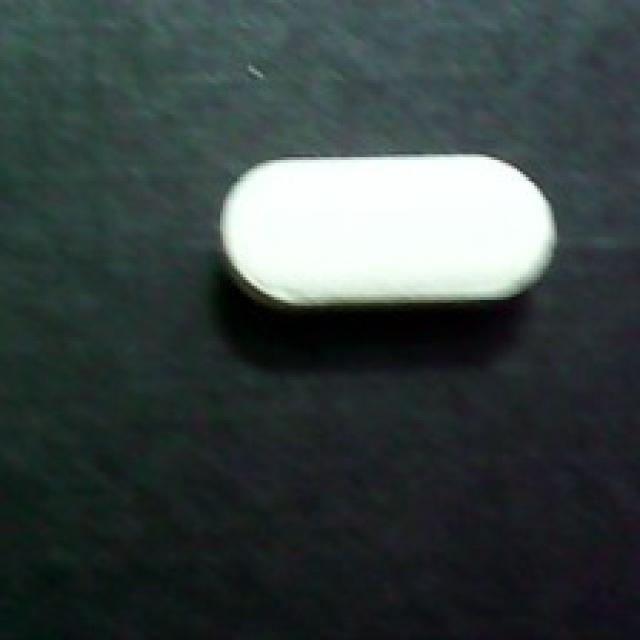no-defect: (217, 154, 557, 320)
